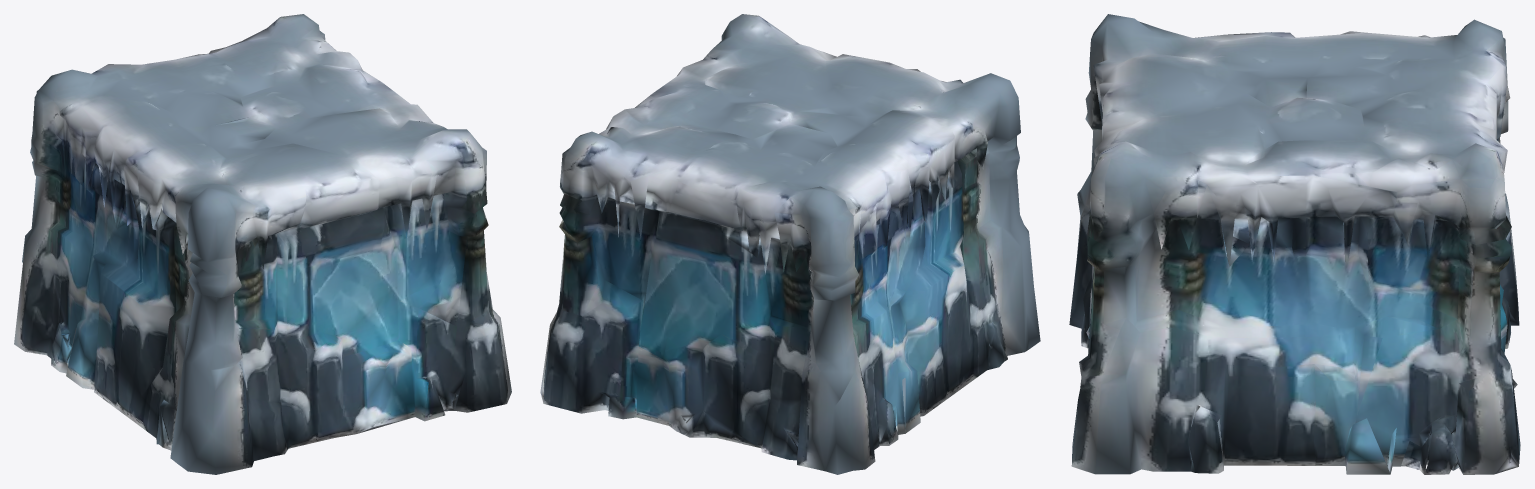
The model's file is SM_Tripo_FrostSeaPlatformBlock.glb.
3 renders of one model, left to right at view 1: azimuth 30°, elevation 25°; view 2: azimuth 150°, elevation 25°; view 3: azimuth 270°, elevation 25°, orthographic. The views are drawn at different scales.
Visible parts, largest first — view 1: SM_Tripo_FrostSeaPlatformBlock_LOD0; view 2: SM_Tripo_FrostSeaPlatformBlock_LOD0; view 3: SM_Tripo_FrostSeaPlatformBlock_LOD0.
Part boxes in pixels (box(x1,y1,x2,y2)): SM_Tripo_FrostSeaPlatformBlock_LOD0: box(14, 14, 511, 474); SM_Tripo_FrostSeaPlatformBlock_LOD0: box(540, 14, 1040, 474); SM_Tripo_FrostSeaPlatformBlock_LOD0: box(1069, 14, 1520, 474).
Size of the model in its own units: 3.61 by 2.81 by 3.81.
1 material, 1 textured.
